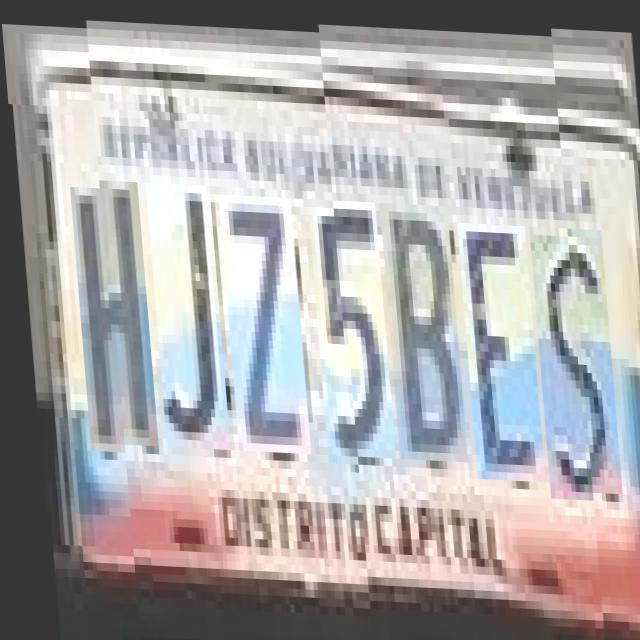5: (304, 196, 388, 455)
B: (376, 198, 461, 458)
E: (453, 218, 538, 477)
H: (66, 170, 150, 437)
J: (142, 173, 222, 440)
S: (526, 229, 616, 496)
Z: (215, 184, 303, 443)
